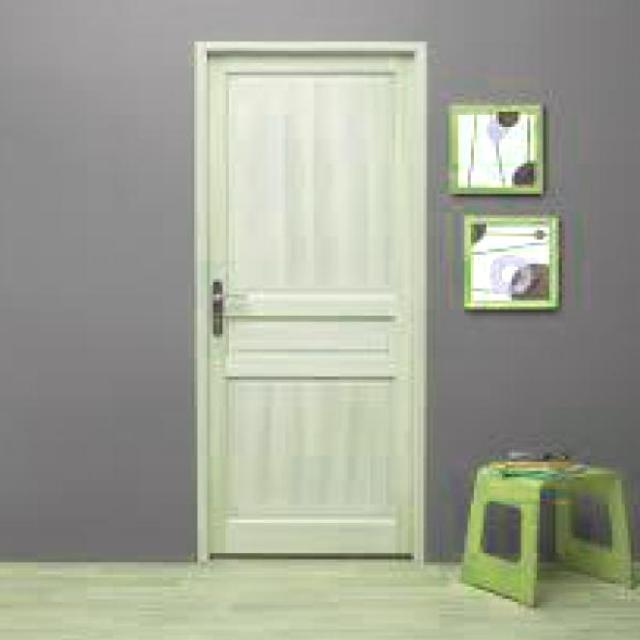door: (200, 41, 426, 561)
